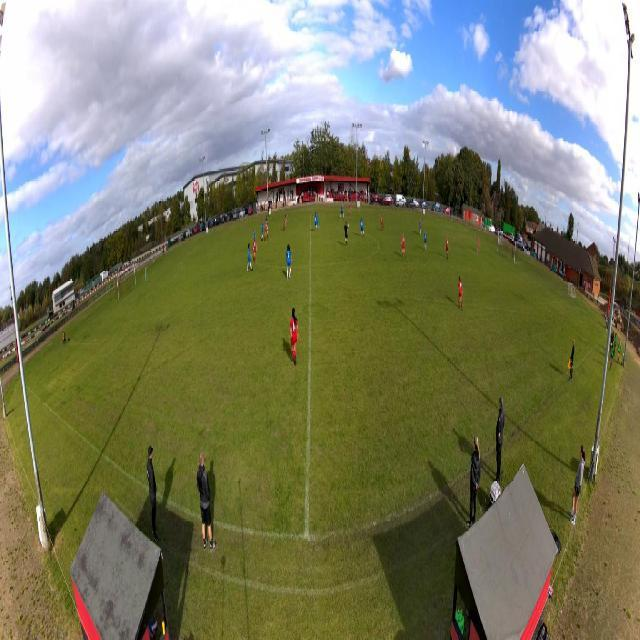ball: (347, 224, 349, 228)
player: (289, 306, 299, 365), (286, 244, 292, 280), (457, 277, 463, 312), (247, 243, 253, 273), (400, 233, 406, 259), (253, 238, 258, 263), (344, 221, 348, 247), (445, 235, 449, 259), (360, 217, 365, 236), (313, 212, 318, 231), (283, 212, 288, 230), (264, 220, 268, 241), (145, 267, 149, 285), (339, 205, 344, 219), (380, 214, 384, 231), (424, 230, 427, 251), (261, 220, 264, 241), (477, 236, 480, 253), (252, 229, 256, 241), (349, 204, 352, 218), (419, 217, 421, 236), (420, 217, 422, 236), (266, 215, 268, 230)
